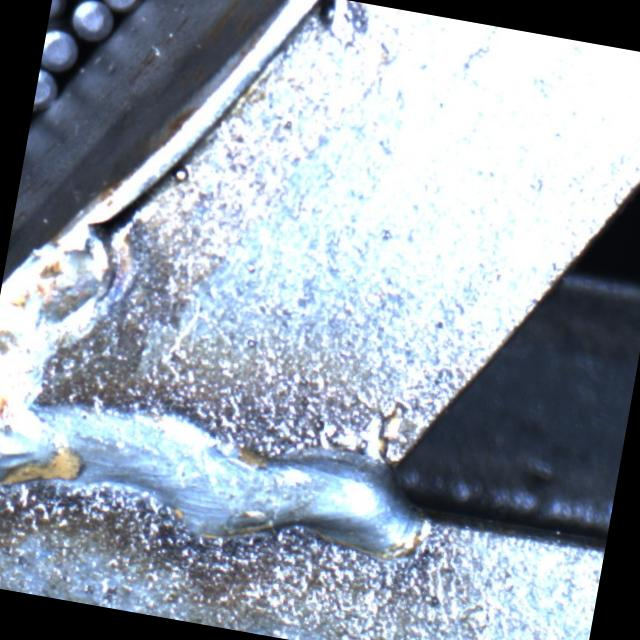tool: (67, 0, 115, 42), (40, 25, 80, 72), (32, 68, 60, 114), (99, 0, 147, 13), (47, 0, 69, 26)
